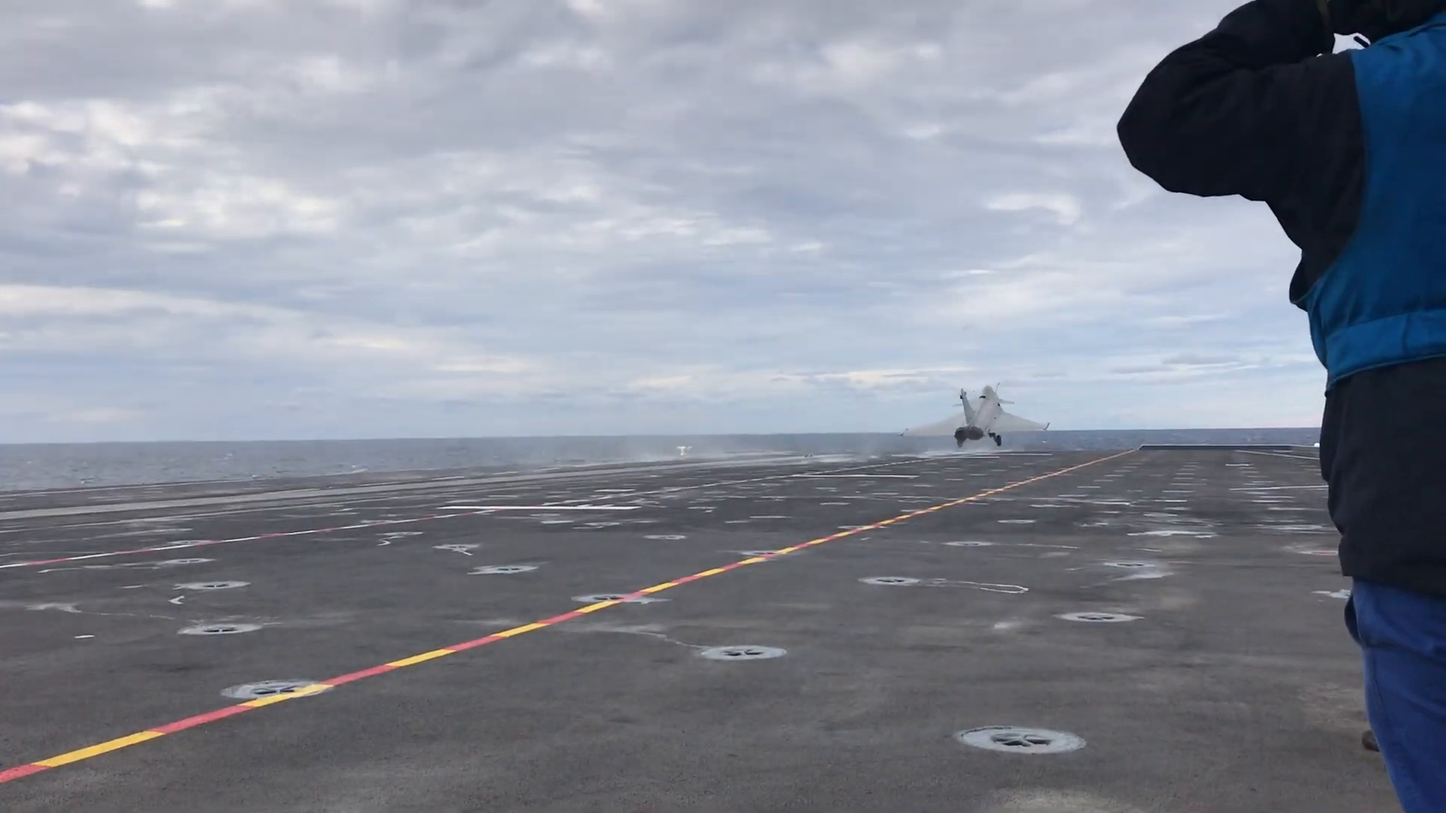Rafale: (896, 383, 1052, 452)
